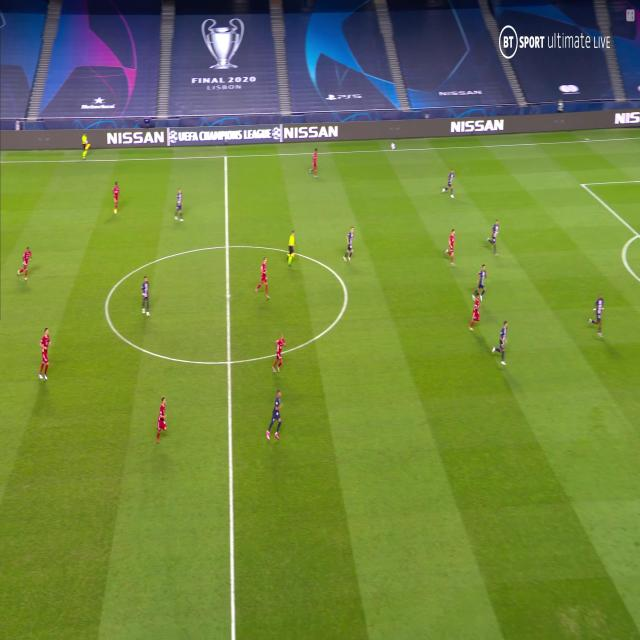ball: (390, 141, 396, 150)
player: (266, 390, 284, 442), (492, 318, 510, 366), (587, 293, 606, 337), (38, 327, 52, 381), (255, 257, 272, 299), (154, 396, 168, 443), (17, 245, 34, 282), (472, 265, 489, 300), (484, 219, 500, 256), (272, 332, 286, 374), (469, 291, 484, 329), (443, 228, 457, 264), (343, 225, 355, 264), (440, 168, 456, 196), (286, 230, 297, 266), (174, 187, 185, 223), (308, 147, 320, 178), (141, 275, 150, 315), (81, 129, 91, 159), (112, 180, 120, 215)
